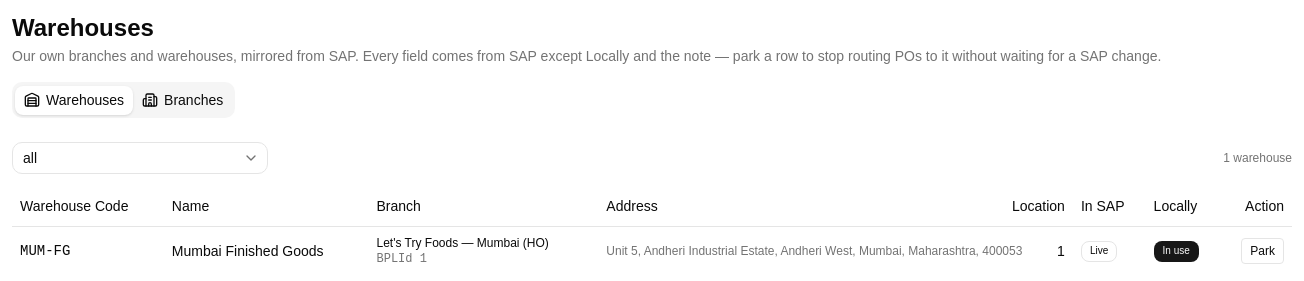
Scenario: WarehousesPage › shows branches on the Branches tab, with a disabled one flagged
Click the tab "Branches" at (183, 100), box [133,86,232,114]
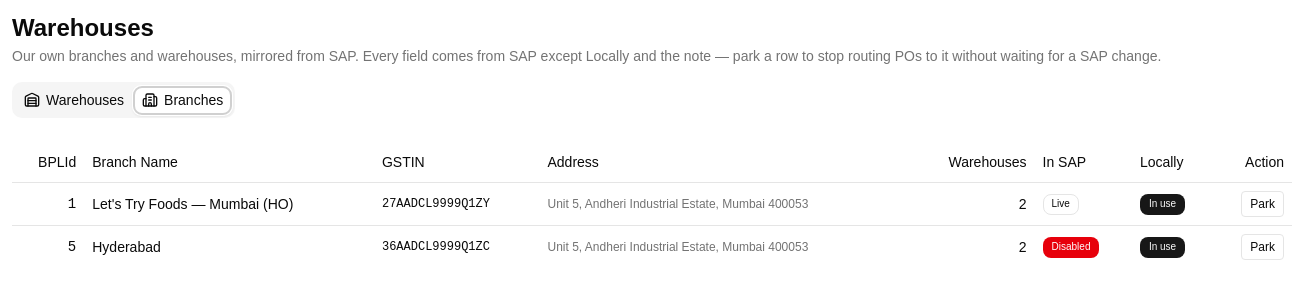
Result: the text "Hyderabad" is shown at [92,238,161,254]
Result: the text "27AADCL9999Q1ZY" is shown at [374,182,540,225]
Result: the text "Disabled" is shown at [1042,237,1099,258]
